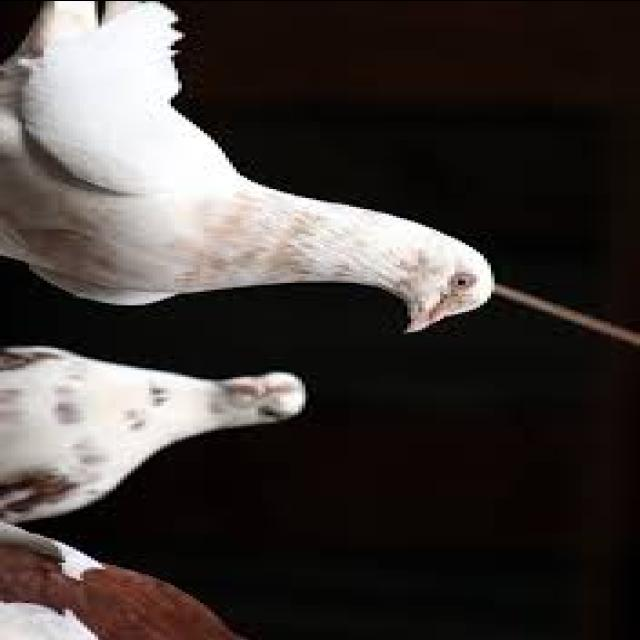pigeon: (0, 0, 565, 342)
